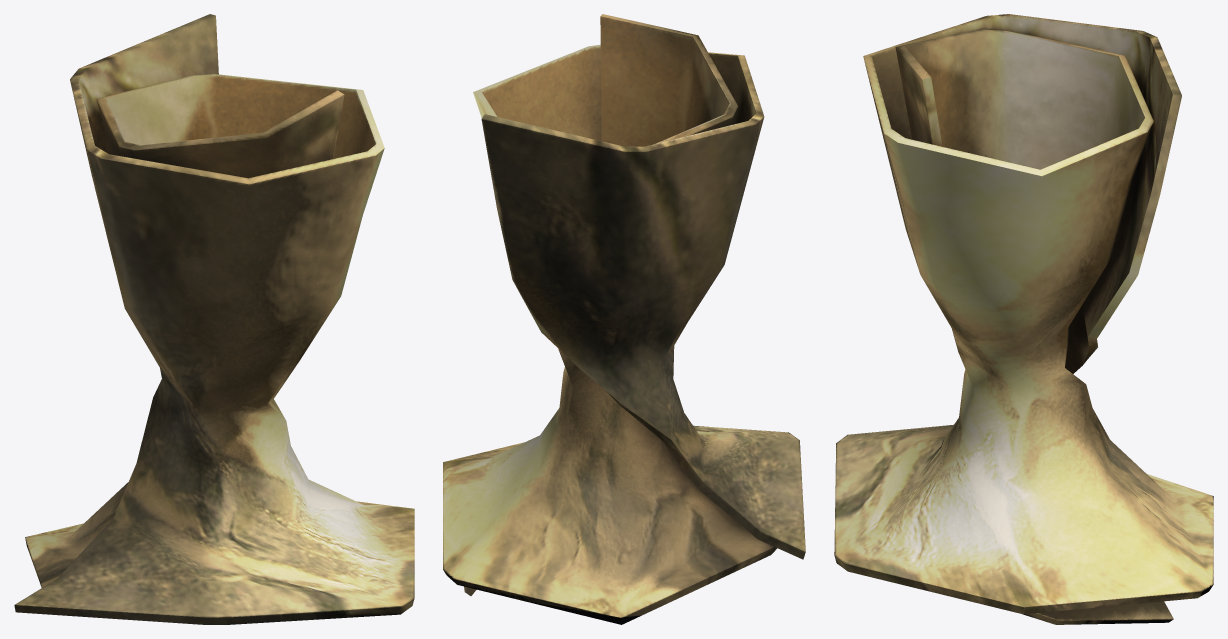
Rendered from copa.FBX.
3 views of the same model, side by side, from view 1: azimuth 30°, elevation 25°; view 2: azimuth 150°, elevation 25°; view 3: azimuth 270°, elevation 25° (orthographic). The views are drawn at different scales.
Visible parts, largest first — view 1: Copa; view 2: Copa; view 3: Copa.
Part boxes in pixels (x1=…): Copa: x1=14, y1=14, x2=414, y2=624; Copa: x1=443, y1=14, x2=805, y2=624; Copa: x1=834, y1=14, x2=1213, y2=624.
Bounding box in the file's own units: 38.63 × 51 × 32.68.
